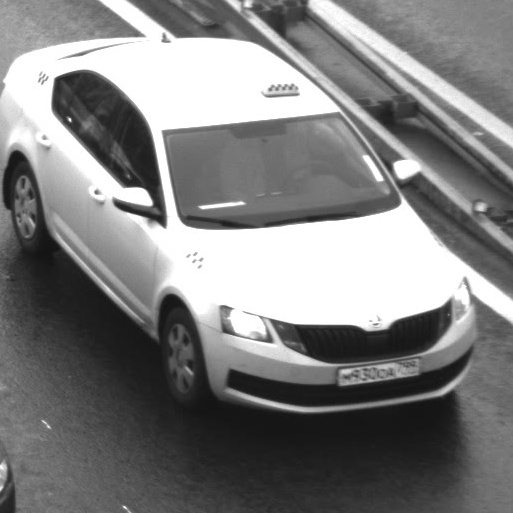plate: (326, 344, 432, 394)
